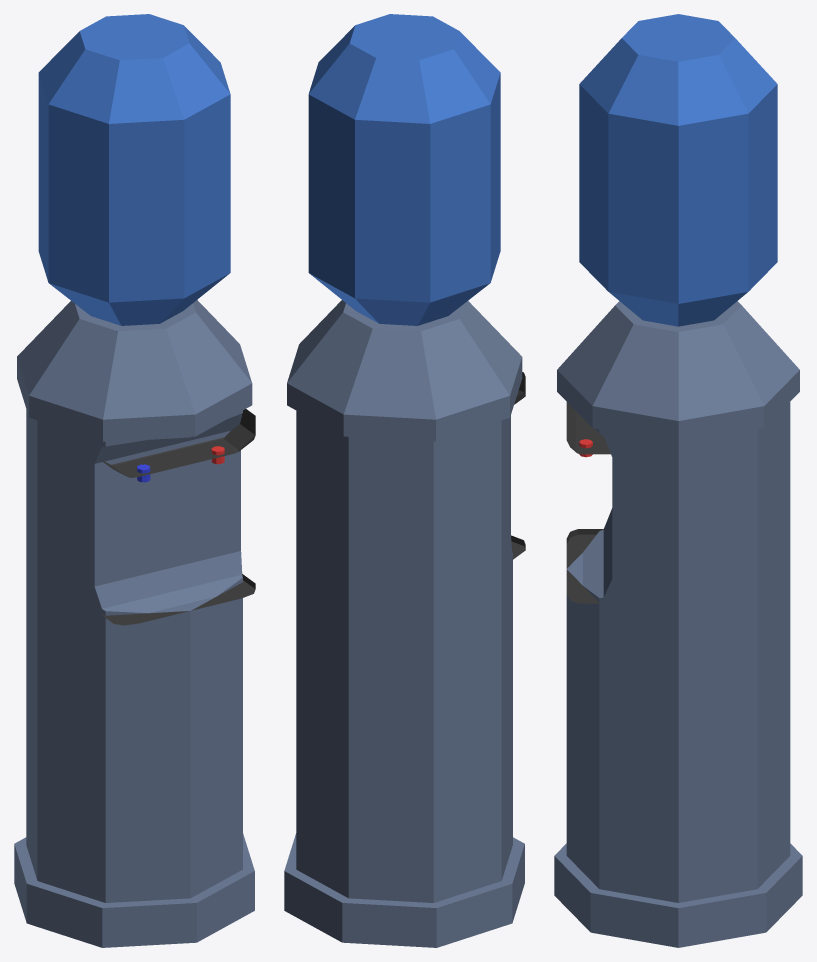
Rendered from cooller.fbx.
The picture shows the model from 3 angles, left to right: view 1: azimuth 30°, elevation 25°; view 2: azimuth 150°, elevation 25°; view 3: azimuth 270°, elevation 25°; orthographic projection.
Parts seen in each view (by area): view 1: cooller; view 2: cooller; view 3: cooller.
Part boxes in pixels (x1,y1,x2,y2): cooller: (14, 14, 255, 947); cooller: (284, 14, 525, 947); cooller: (554, 14, 802, 947).
Bounding box in the file's own units: 0.462 × 1.76 × 0.462.
